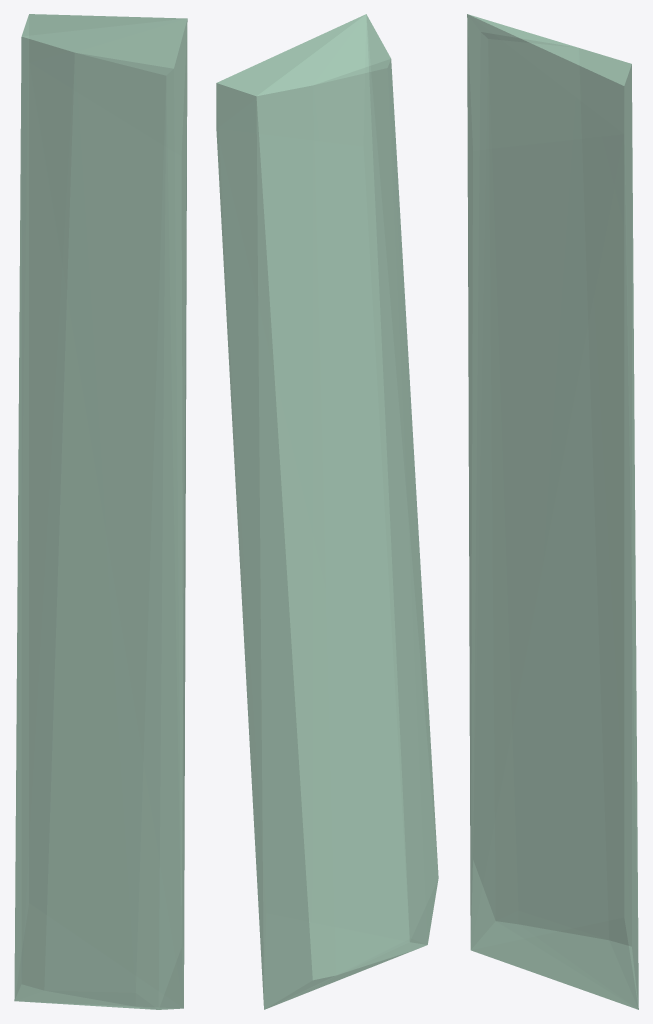
3 renders of one model, left to right at view 1: azimuth 90°, elevation 25°; view 2: azimuth 150°, elevation 25°; view 3: azimuth 270°, elevation 25°, orthographic. The views are drawn at different scales.
Visible parts, largest first — view 1: Shape_IndexedFaceSet.018_Shape_IndexedFaceSet.3675; view 2: Shape_IndexedFaceSet.018_Shape_IndexedFaceSet.3675; view 3: Shape_IndexedFaceSet.018_Shape_IndexedFaceSet.3675.
Part boxes in pixels (x1,y1,x2,y2): Shape_IndexedFaceSet.018_Shape_IndexedFaceSet.3675: (14,14,187,1009); Shape_IndexedFaceSet.018_Shape_IndexedFaceSet.3675: (216,14,438,1009); Shape_IndexedFaceSet.018_Shape_IndexedFaceSet.3675: (467,14,638,1009).
Size of the model in its own units: 0.0672 by 0.4026 by 0.0636.
